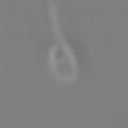normal: (44, 2, 65, 42)
